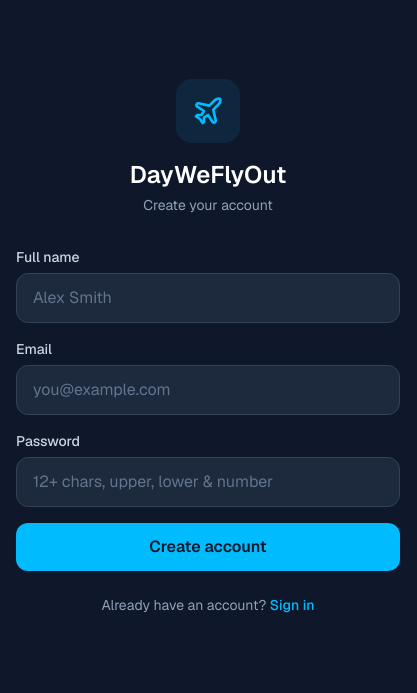
SignupPage › shows validation error for missing number
Type "Test User" into the field labelled "Full name" at (208, 298), box [16,273,400,323]
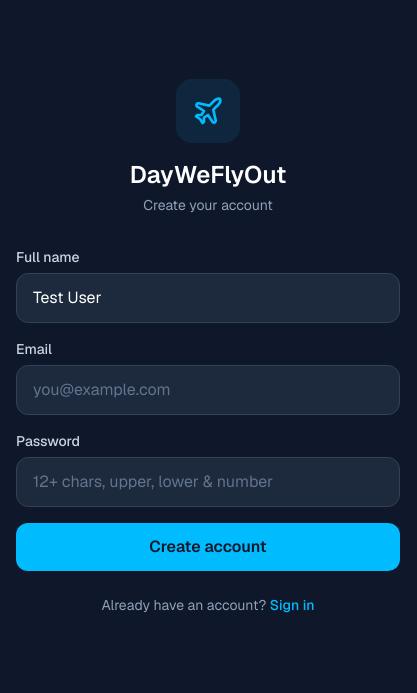
Type "test@example.com" into the field labelled "Email" at (208, 390), box [16,365,400,415]
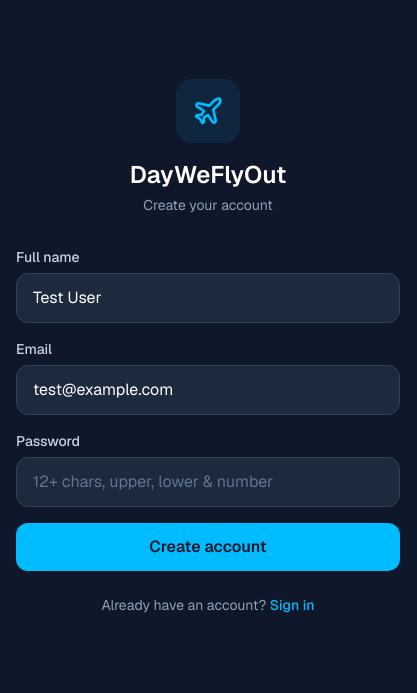
Type "NoNumbersHereAtAll" into the password field labelled "Password" at (208, 482), box [16,457,400,507]
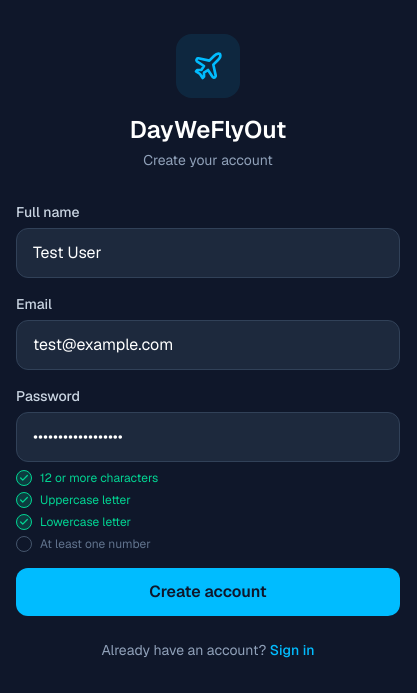
Submit the form named "create account", box [16,202,400,616]
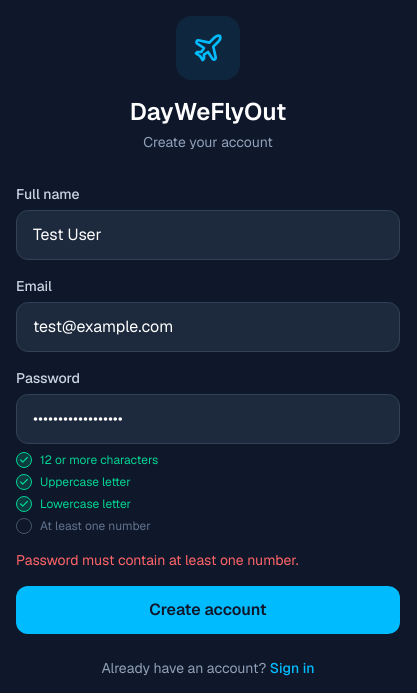
Expected: the text "Password must contain at least one number." is shown, [16,551,298,569]
